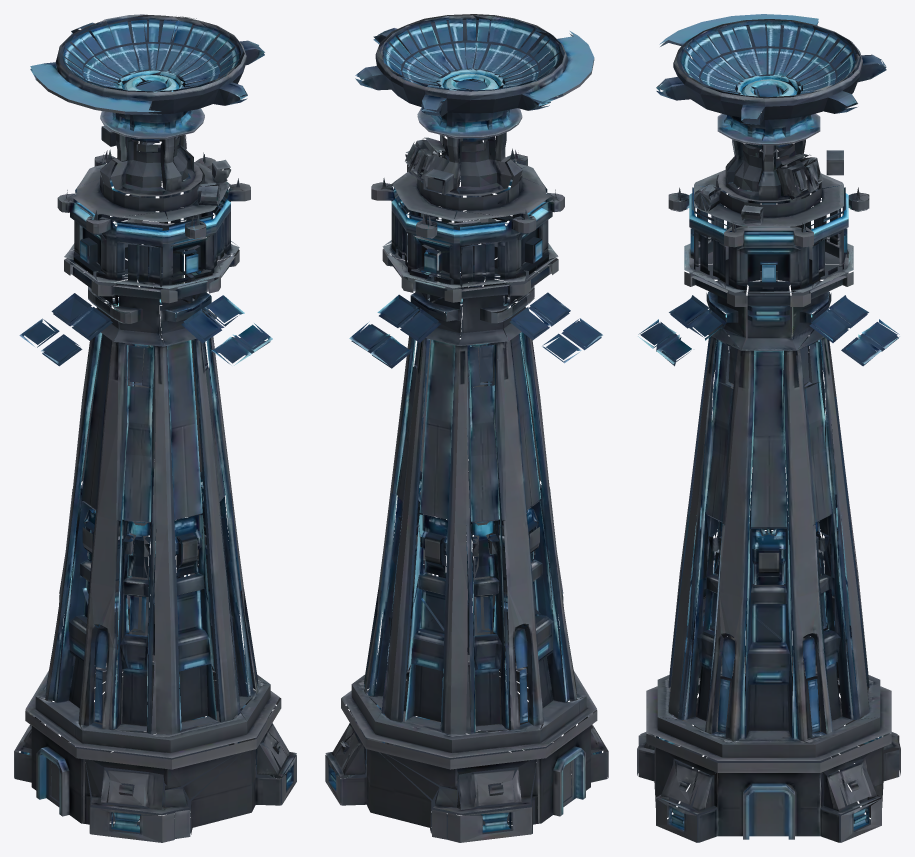
File: radar_array_LOD1.glb
The picture shows the model from 3 angles, left to right: view 1: azimuth 30°, elevation 25°; view 2: azimuth 150°, elevation 25°; view 3: azimuth 270°, elevation 25°; orthographic projection.
Visible parts, largest first — view 1: radar_array_LOD1; view 2: radar_array_LOD1; view 3: radar_array_LOD1.
Boxes of the visible parts, <box> form: radar_array_LOD1: <box>14,14,296,842</box>; radar_array_LOD1: <box>325,14,608,842</box>; radar_array_LOD1: <box>637,14,900,842</box>.
Bounding box in the file's own units: 0.3178 × 0.9961 × 0.3255.
Materials: 1 (1 with a texture image).
